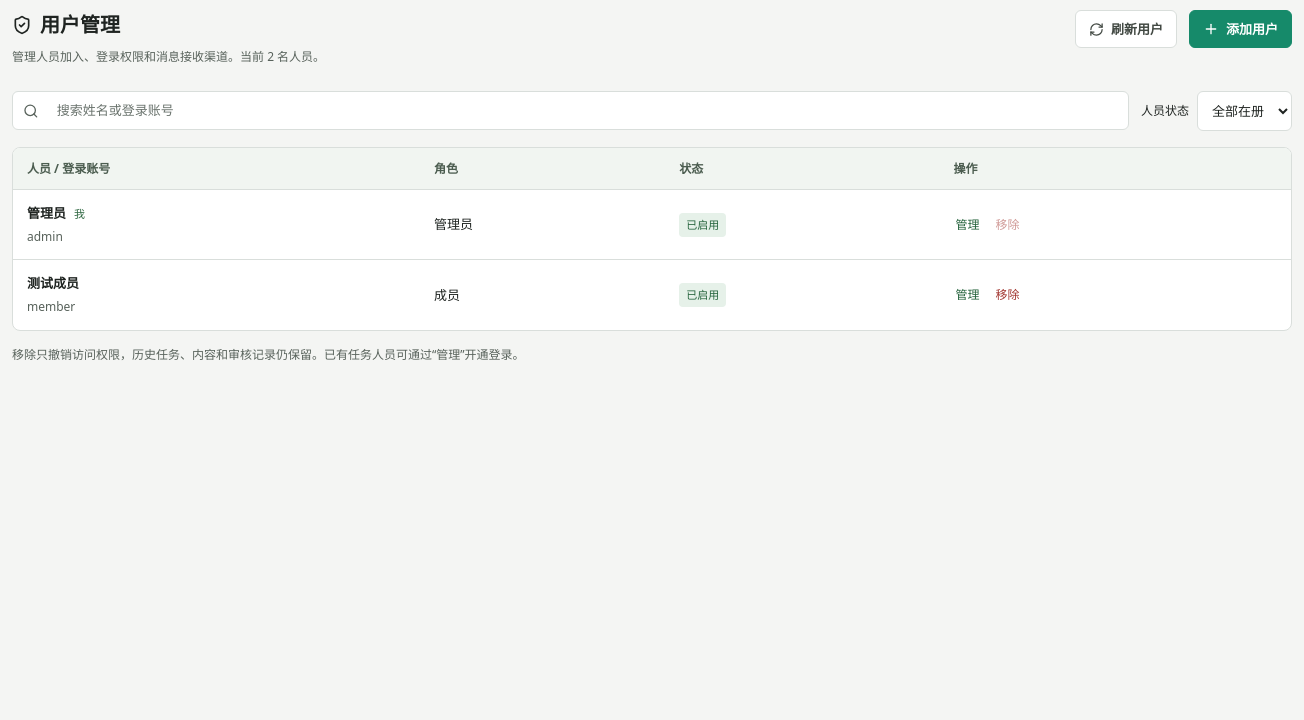
it: 用户管理 › 绑定渠道后刷新绑定列表，但保留尚未保存的用户资料
Check: the text "测试成员" is shown, box [27,274,79,292]
Click the button with aria-label "管理 测试成员" at (968, 295), box [954,279,982,311]
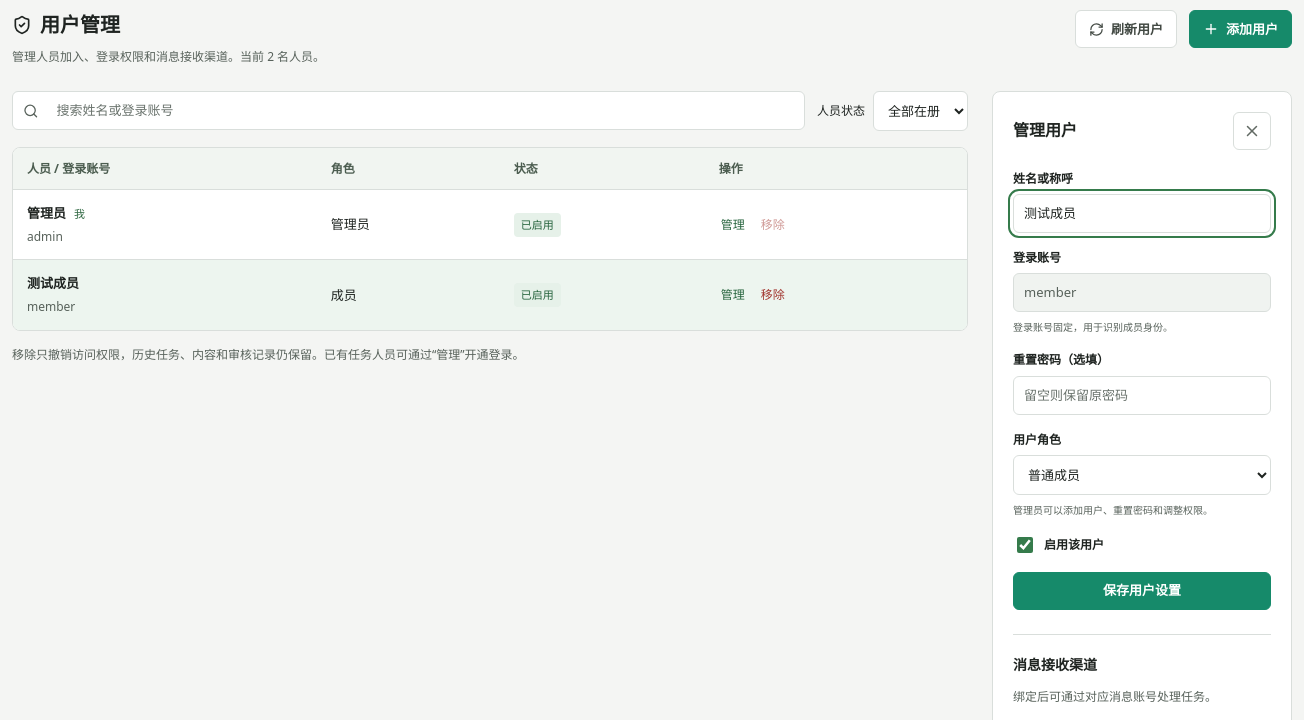
Replace the text in the field labelled "姓名或称呼" with "尚未保存的姓名" at (1142, 214), box [1013,194,1271,233]
(page scrolled)
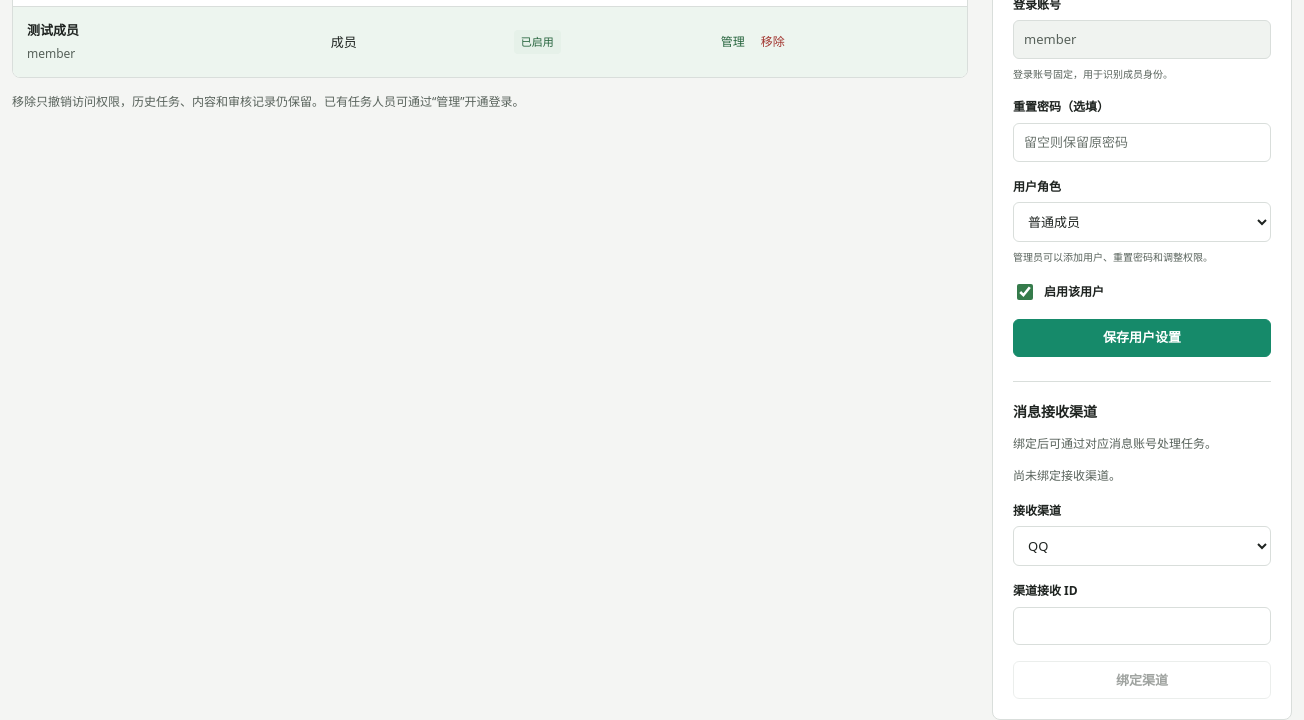
Type "test-recipient" into the field labelled "渠道接收 ID" at (1142, 626), box [1013,607,1271,645]
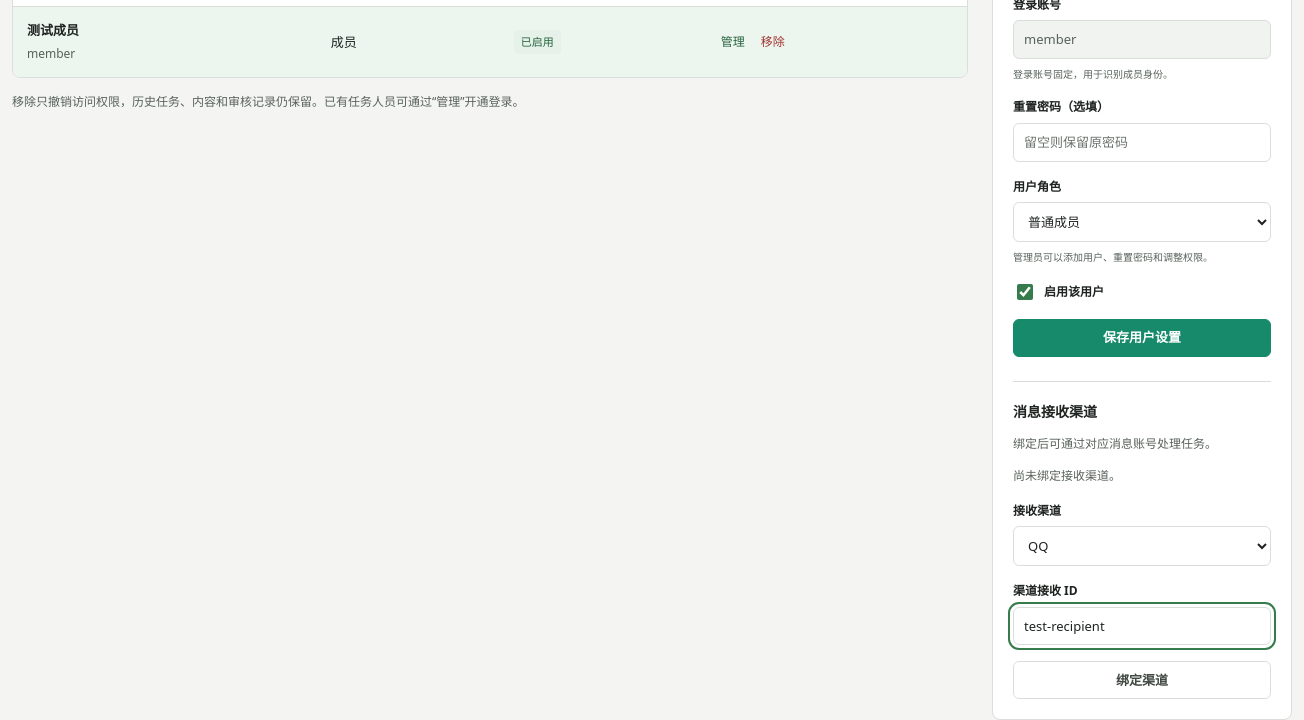
Click the button "绑定渠道" at (1142, 680), box [1013,661,1271,699]
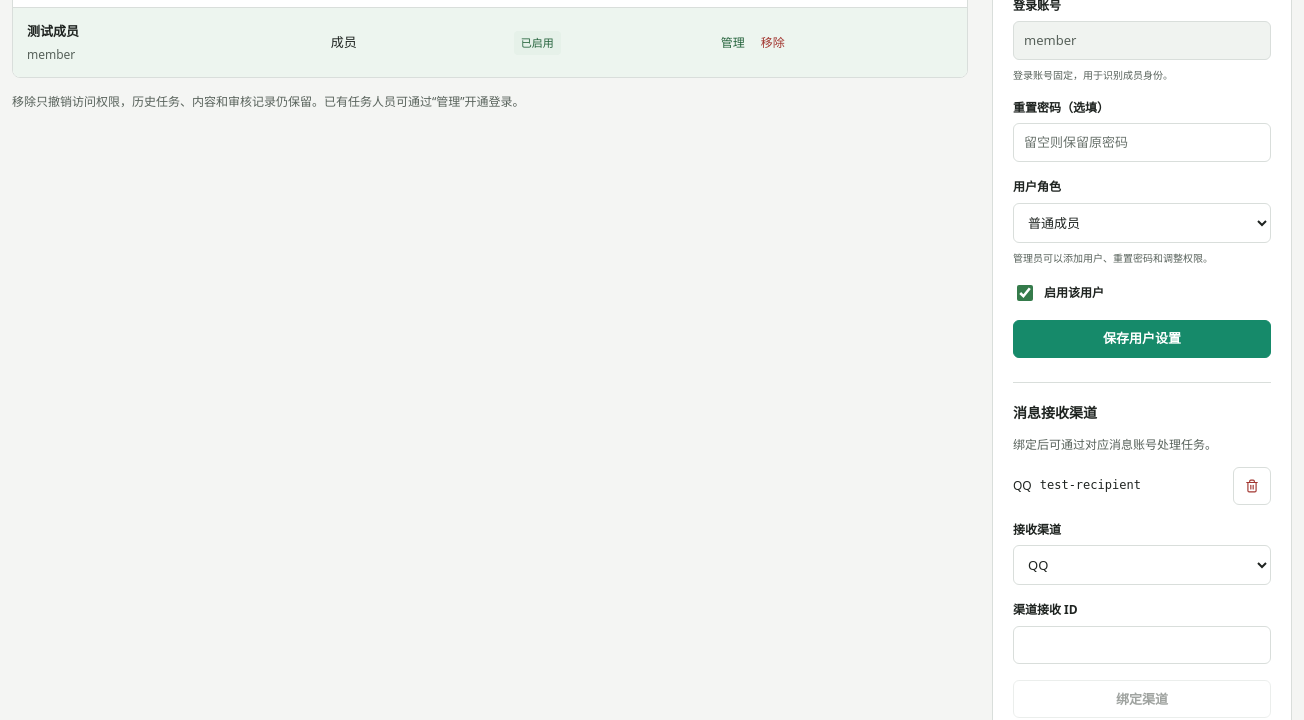
Check: the button named "解绑 QQ test-recipient" is shown, box [1233,467,1271,505]
Check: the field labelled "渠道接收 ID" is empty, box [1013,626,1271,664]
